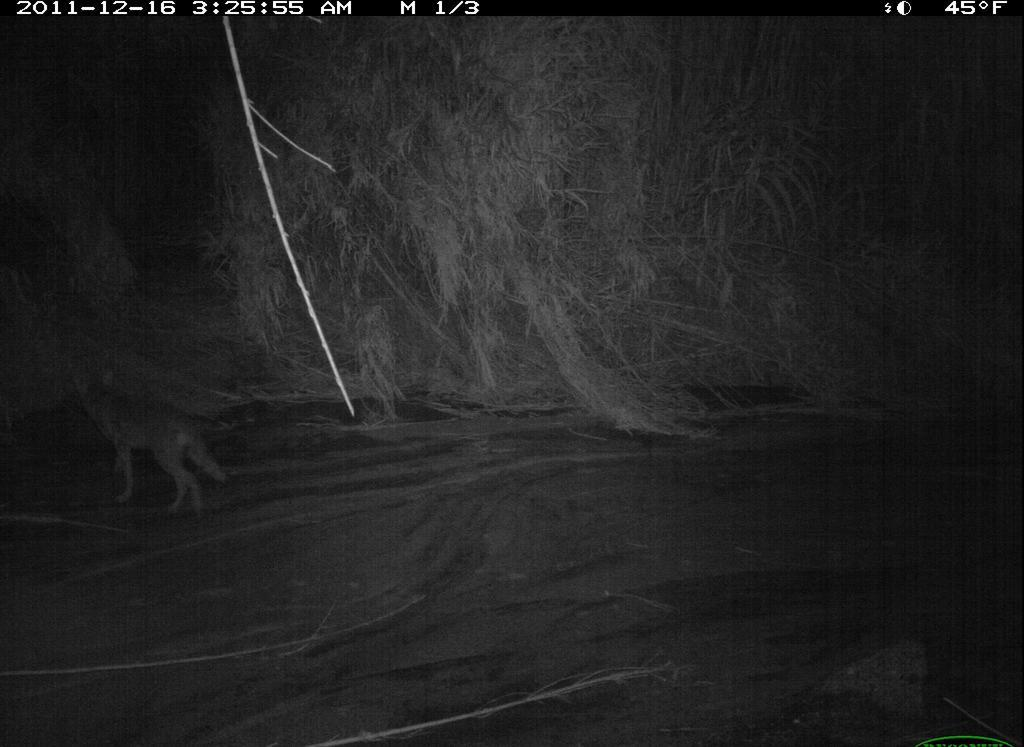coyote: (62, 354, 245, 524)
